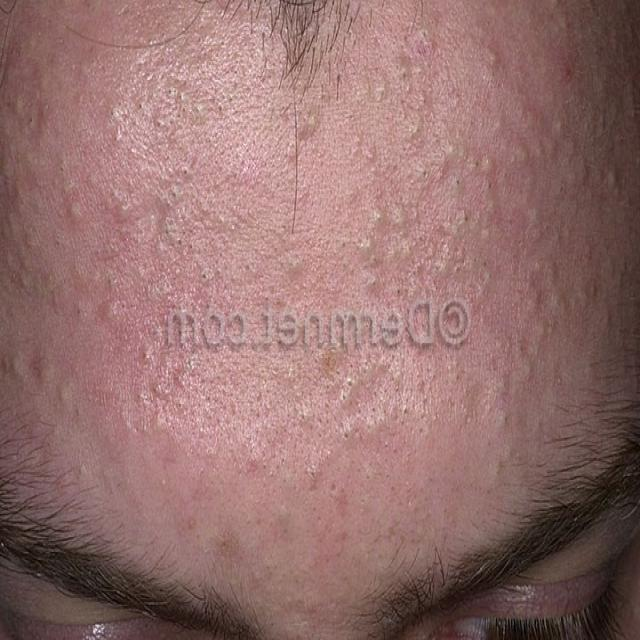acne: (5, 35, 640, 575)
